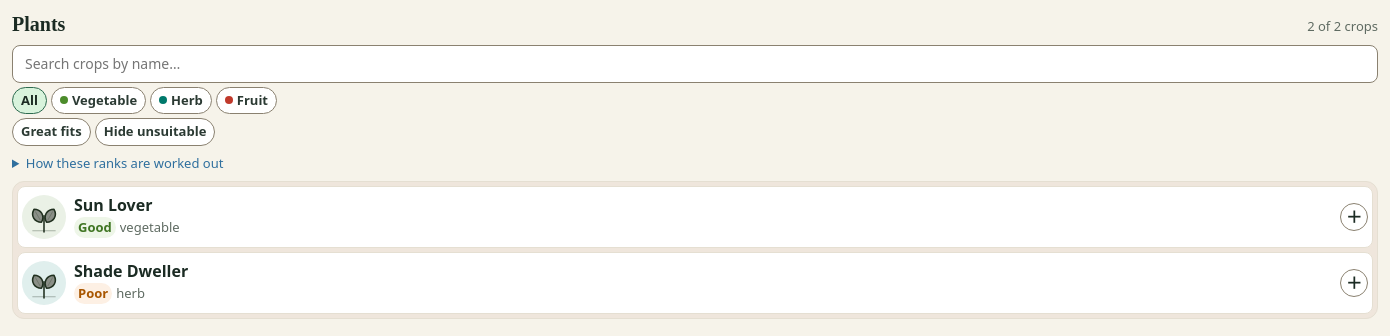
Test case: PlantPalette › narrows the rendered list by search
Type "shade dweller" into the search field labelled "Search crops by name…" at (695, 64), box [12, 45, 1378, 83]
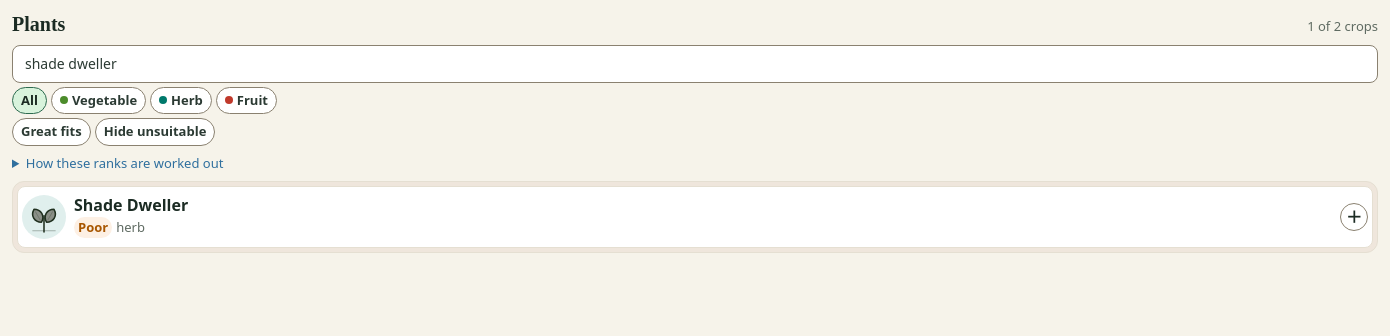
Check: the text "Shade Dweller" is shown, box [74, 196, 188, 215]
Check: the button "Sun Lover" is gone
